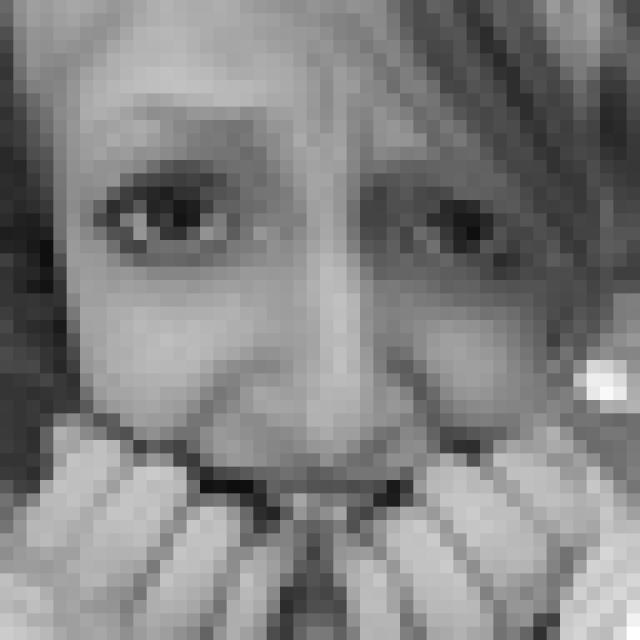fear: (80, 90, 550, 605)
